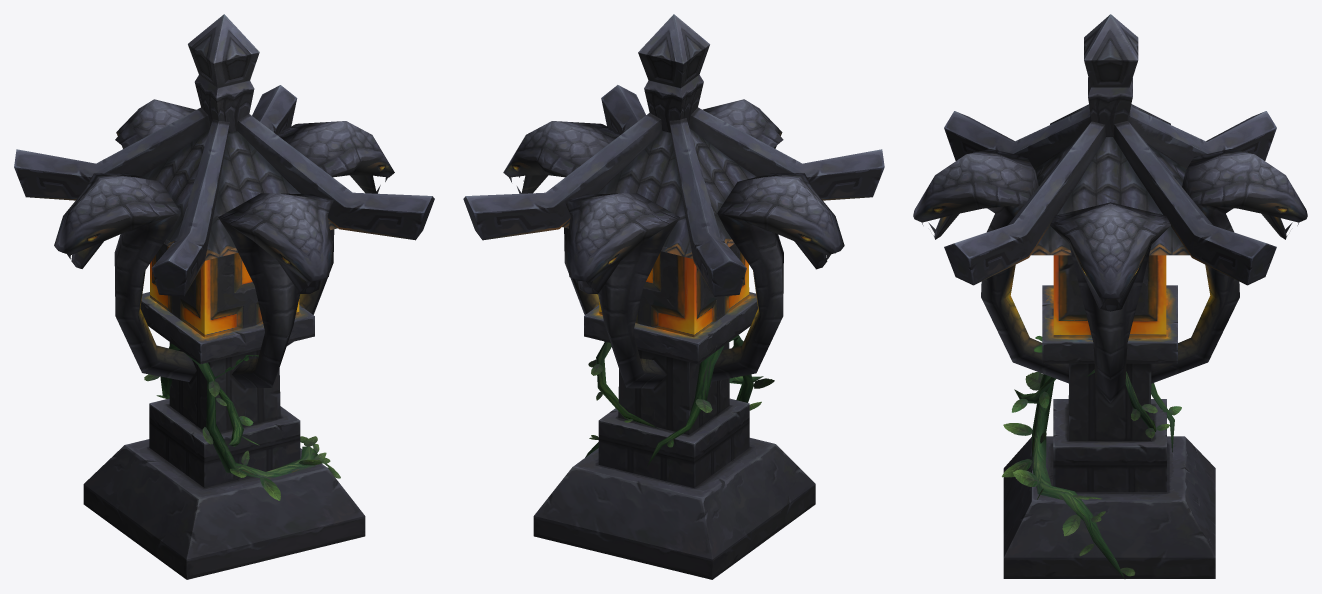
The model's file is fb_csd_zj_07.FBX.
3 views of the same model, side by side, from view 1: azimuth 30°, elevation 25°; view 2: azimuth 150°, elevation 25°; view 3: azimuth 270°, elevation 25° (orthographic). The views are drawn at different scales.
Parts seen in each view (by area): view 1: fb_csd_zj_07_a, fb_csd_zj_07_b; view 2: fb_csd_zj_07_a, fb_csd_zj_07_b; view 3: fb_csd_zj_07_a, fb_csd_zj_07_b.
Boxes of the visible parts, left/top/right/bottom form: fb_csd_zj_07_a: left=14, top=14, right=434, bottom=579; fb_csd_zj_07_b: left=144, top=343, right=340, bottom=500; fb_csd_zj_07_a: left=463, top=14, right=884, bottom=579; fb_csd_zj_07_b: left=585, top=335, right=774, bottom=465; fb_csd_zj_07_a: left=913, top=14, right=1307, bottom=578; fb_csd_zj_07_b: left=1002, top=336, right=1181, bottom=578.
Size of the model in its own units: 140 by 203 by 140.
